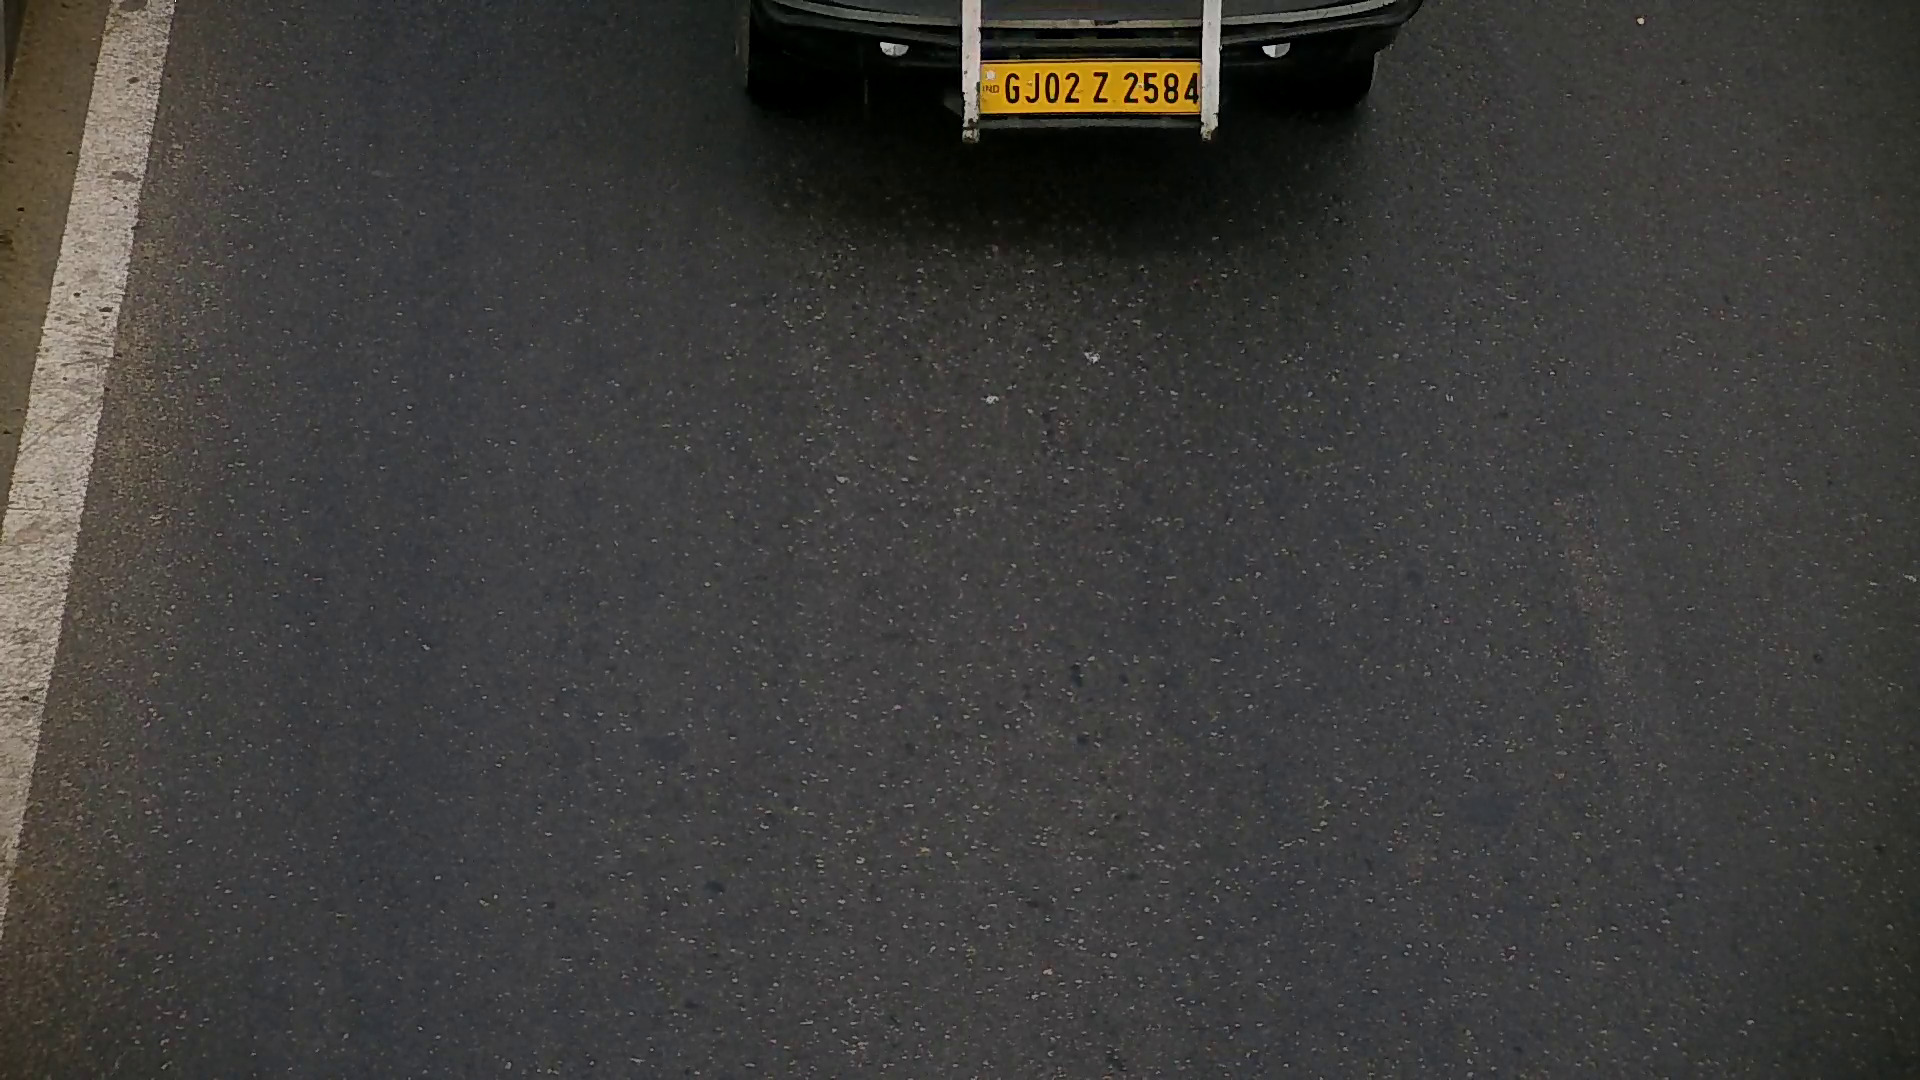numberplate: (982, 44, 1208, 121)
